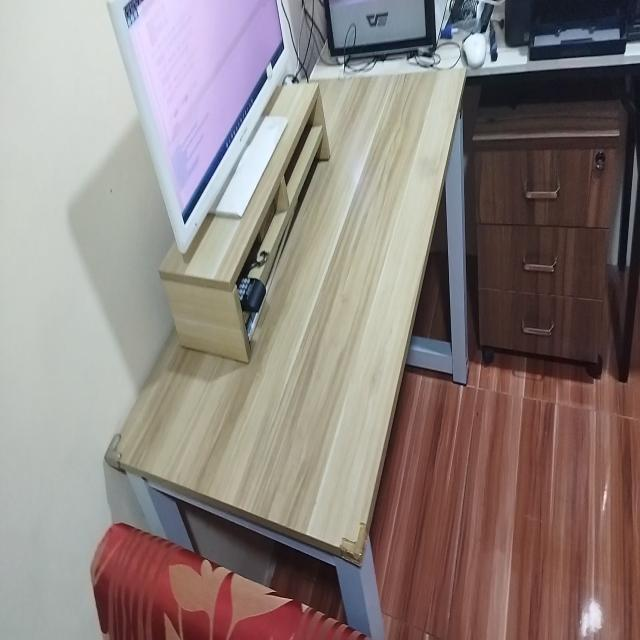table: (110, 59, 471, 640)
